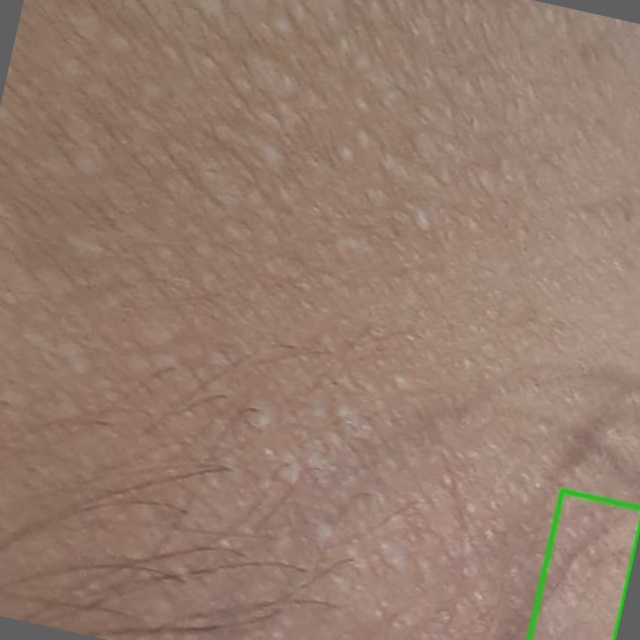Contact Dermatitis: (528, 490, 639, 639)
